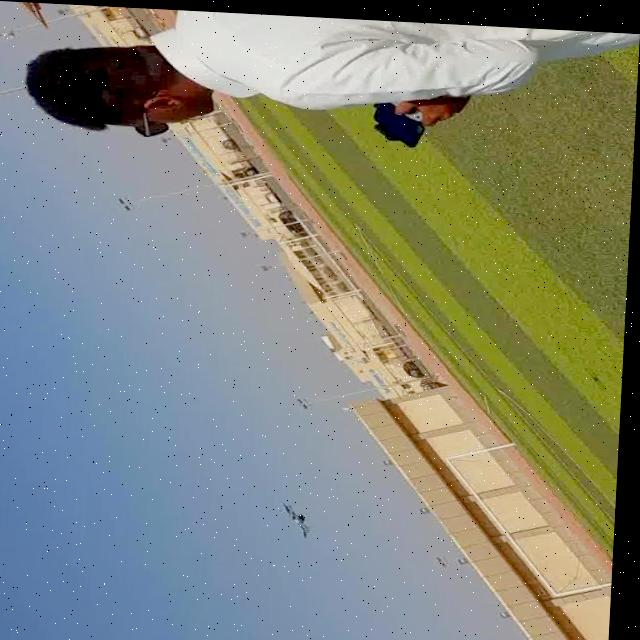drone: (274, 497, 329, 538)
